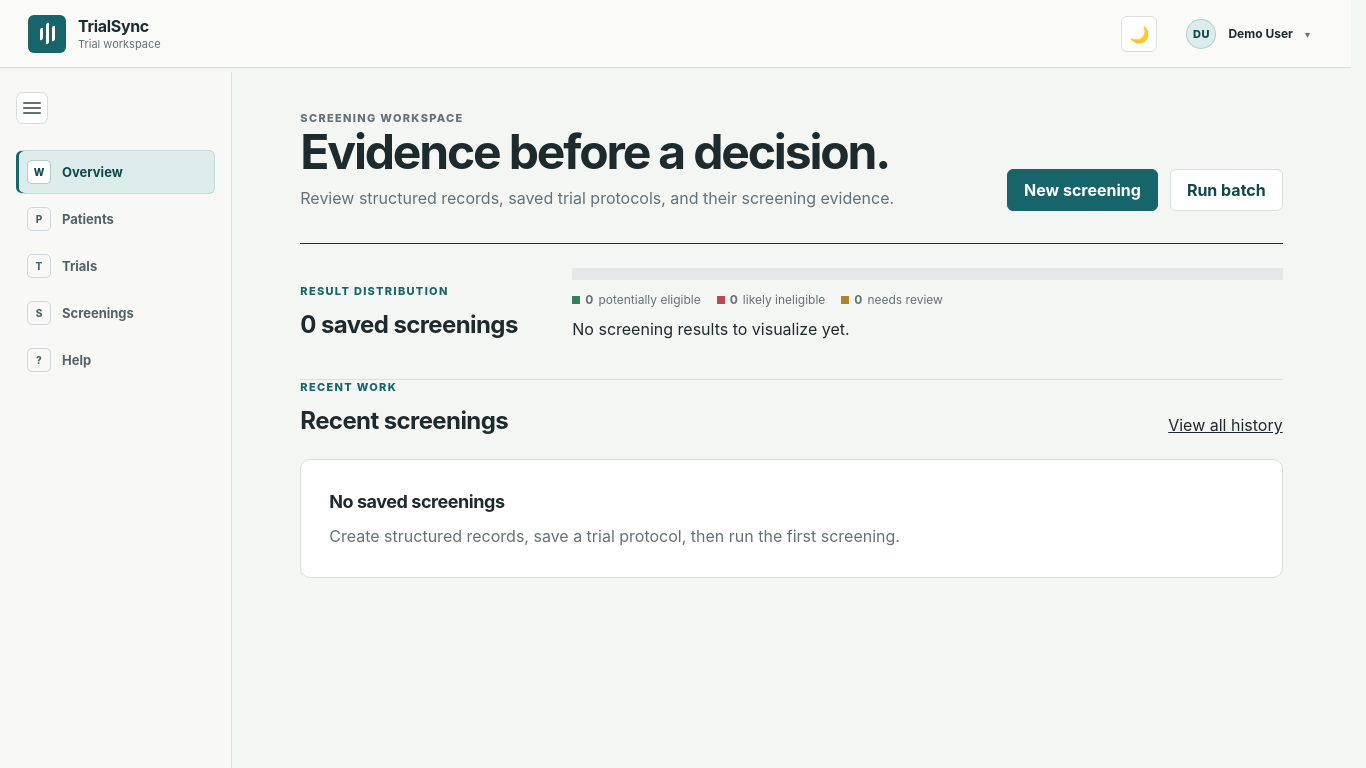
Test case: TrialSync Phase 5 screening workflow › opens profile dropdown and displays user name, email, and Sign out
Expected: the heading "No saved screenings" is shown, x1=329 y1=491 x2=505 y2=512
Step 1. Click the button with aria-label "account menu" → x=1248, y=34, box x1=1174 y1=12 x2=1323 y2=56
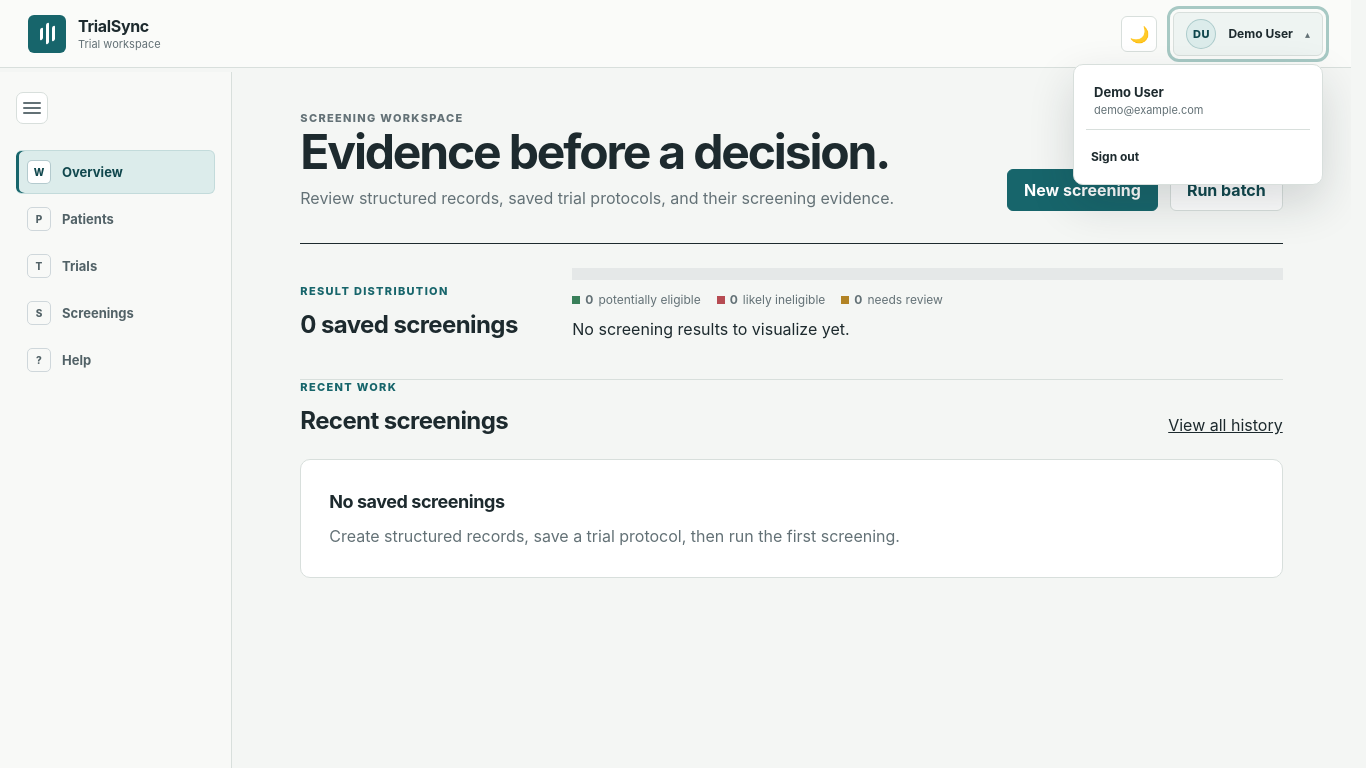
Now the menu is shown, box x1=1073 y1=64 x2=1323 y2=184
Now the 2nd text "Demo User" is shown, box x1=1094 y1=84 x2=1164 y2=100
Now the text "demo@example.com" is shown, box x1=1094 y1=102 x2=1204 y2=116
